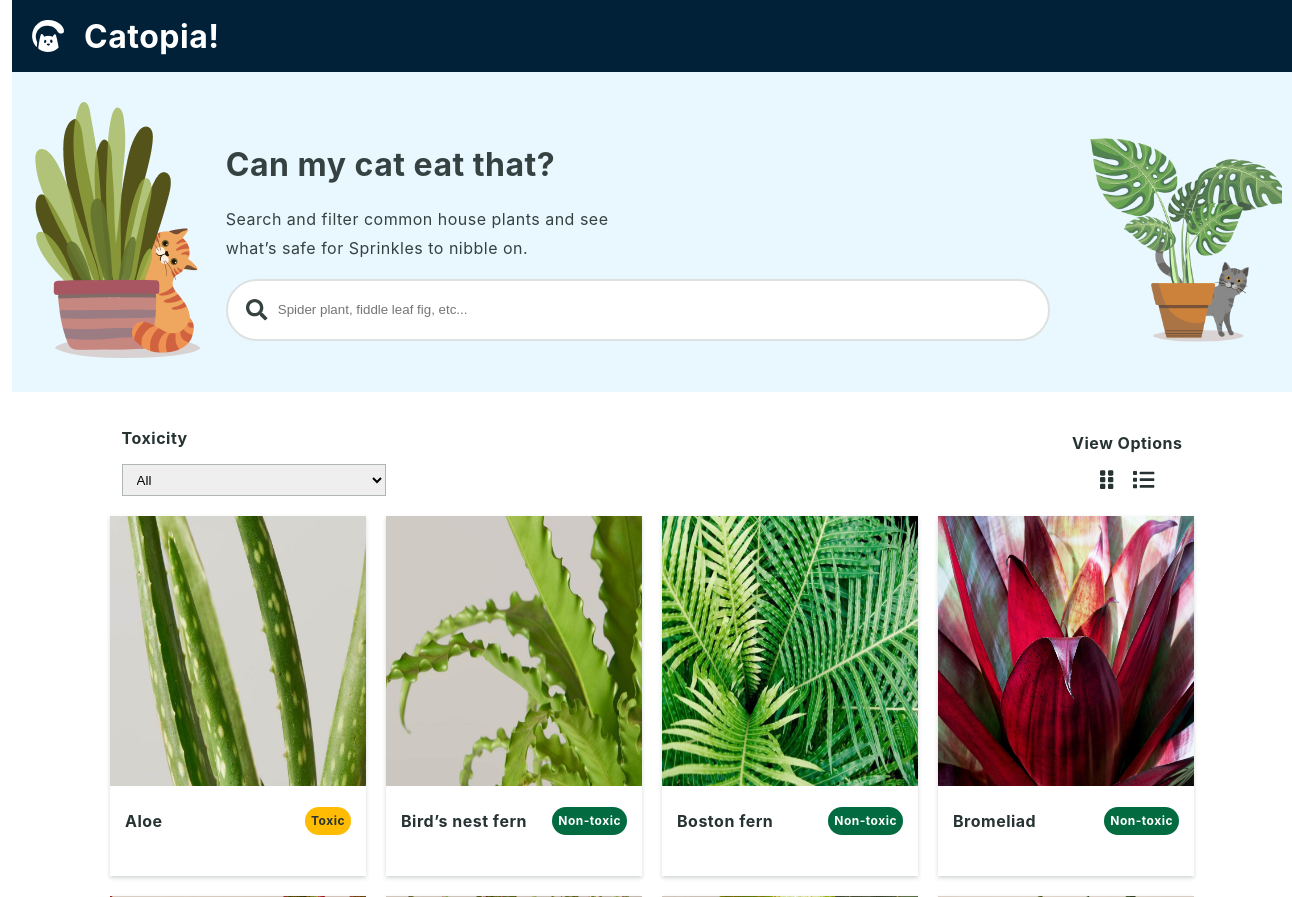
Test: Check number of toxic images on list view
Click the icon with test id "list-toggle" at (1144, 480), box [1133,470,1154,490]
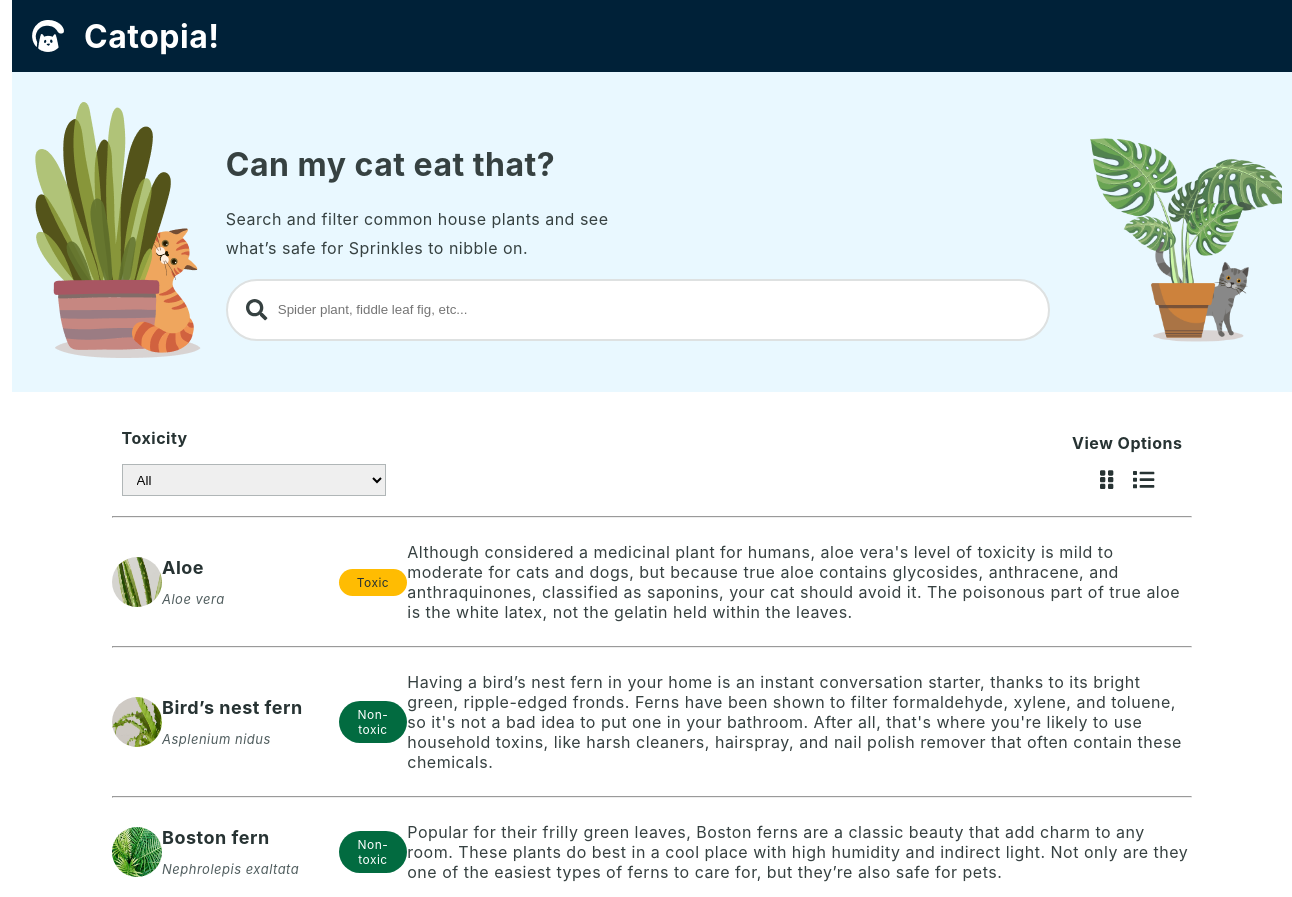
Select "Toxic" in the dropdown with test id "toxicity" at (254, 480), box [122,464,386,496]
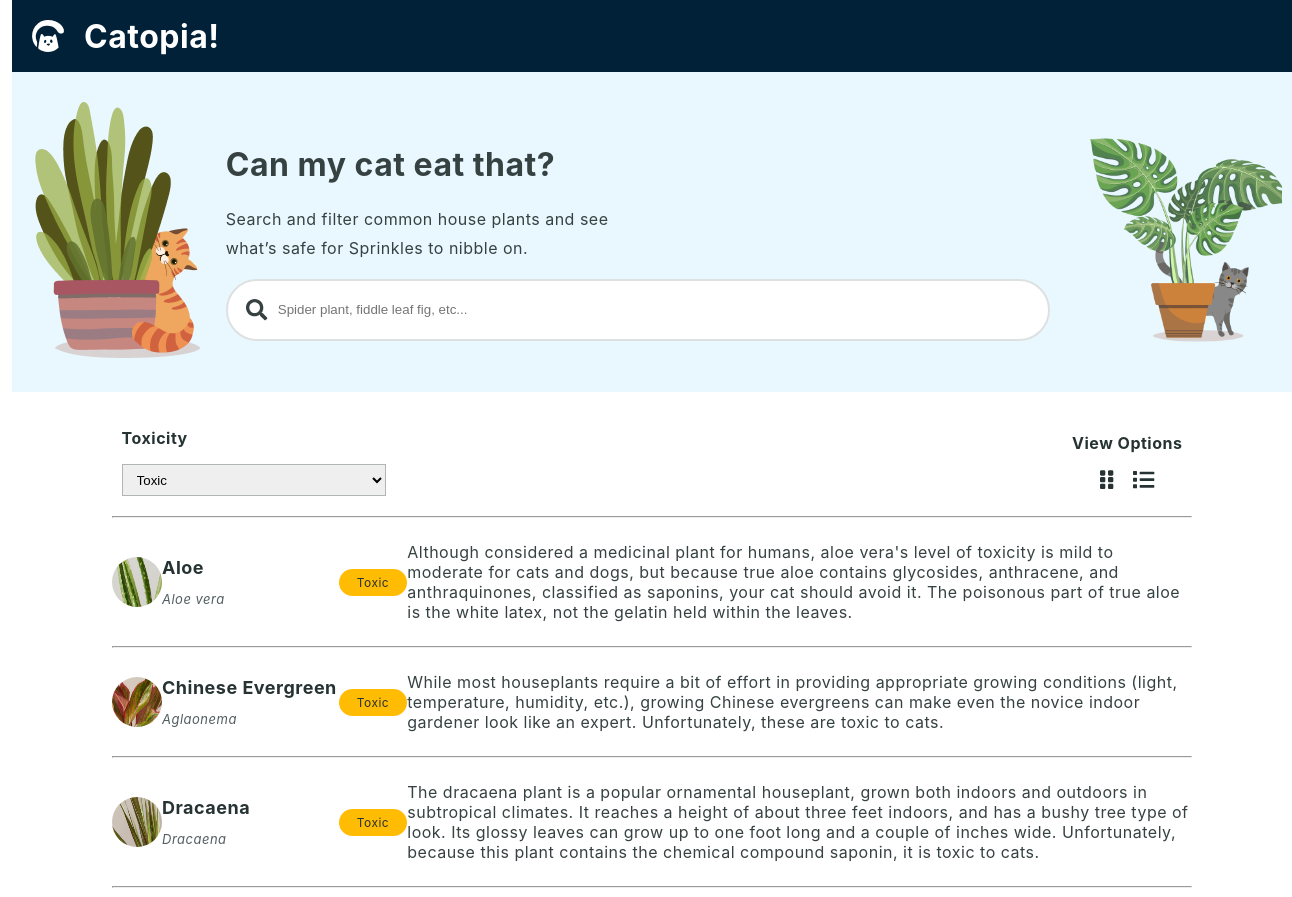
Check: the number of elements with class "list-wrapper" is 10
